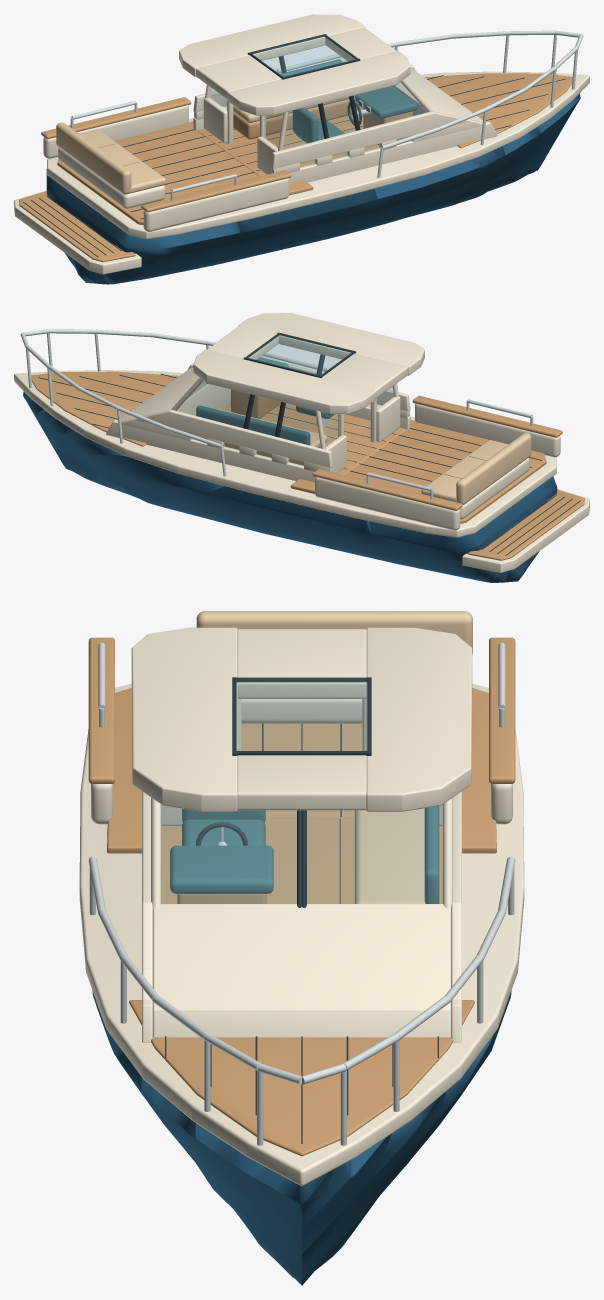
The picture shows the model from 3 angles, top to bottom: view 1: azimuth 30°, elevation 25°; view 2: azimuth 150°, elevation 25°; view 3: azimuth 270°, elevation 25°; orthographic projection. The views are drawn at different scales.
Parts seen in each view (by area): view 1: Deep navy hull • hard chine, Ivory deck moulding, Teak cockpit sole, Cantilever hardtop side 1, Cantilever hardtop side -1, Teak foredeck, Side glazing 1, Upper wheelhouse sill 1, Lower wheelhouse sill 1, Aft cockpit side 1, Platform teak, Sliding skylight (+22 smaller); view 2: Deep navy hull • hard chine, Ivory deck moulding, Teak cockpit sole, Cantilever hardtop side -1, Cantilever hardtop side 1, Teak foredeck, Side glazing -1, Upper wheelhouse sill -1, Lower wheelhouse sill -1, Aft cockpit side -1, Wheelhouse teak sole, Platform teak (+19 smaller); view 3: Foredeck fairing, Ivory deck moulding, Deep navy hull • hard chine, Teak foredeck, Cantilever hardtop side -1, Cantilever hardtop side 1, Windshield glazing 1, Windshield glazing -1, Teak cockpit sole, Sliding skylight, Cantilever hardtop aft, Wheelhouse teak sole (+16 smaller).
Part boxes in pixels (x1,y1,x2,y2): Deep navy hull • hard chine: (46,93,580,284); Ivory deck moulding: (47,71,589,238); Teak cockpit sole: (57,121,313,225); Cantilever hardtop side 1: (227,50,410,115); Cantilever hardtop side -1: (179,14,365,76); Teak foredeck: (425,73,572,148); Side glazing 1: (283,83,426,148); Upper wheelhouse sill 1: (270,111,468,169); Lower wheelhouse sill 1: (288,121,497,183); Aft cockpit side 1: (143,178,288,231); Platform teak: (19,191,135,262); Sliding skylight: (252,36,354,76); Deep navy hull • hard chine: (23,391,557,582); Ivory deck moulding: (14,370,556,537); Teak cockpit sole: (290,420,546,523); Cantilever hardtop side -1: (193,349,376,414); Cantilever hardtop side 1: (238,313,424,375); Teak foredeck: (31,371,178,446); Side glazing -1: (177,381,320,447); Upper wheelhouse sill -1: (135,409,333,468); Lower wheelhouse sill -1: (106,420,314,482); Aft cockpit side -1: (315,477,460,530); Wheelhouse teak sole: (222,402,406,474); Platform teak: (468,489,584,560); Foredeck fairing: (153,904,450,1037); Ivory deck moulding: (79,684,524,1185); Deep navy hull • hard chine: (92,990,511,1285); Teak foredeck: (129,1000,474,1156); Cantilever hardtop side -1: (366,627,472,811); Cantilever hardtop side 1: (131,627,237,811); Windshield glazing 1: (161,805,296,903); Windshield glazing -1: (307,805,442,903); Teak cockpit sole: (107,688,496,853); Sliding skylight: (237,681,366,750); Cantilever hardtop aft: (237,629,366,698); Wheelhouse teak sole: (161,817,442,903).
Size of the model in its own units: 6.83 by 2.19 by 2.45.
